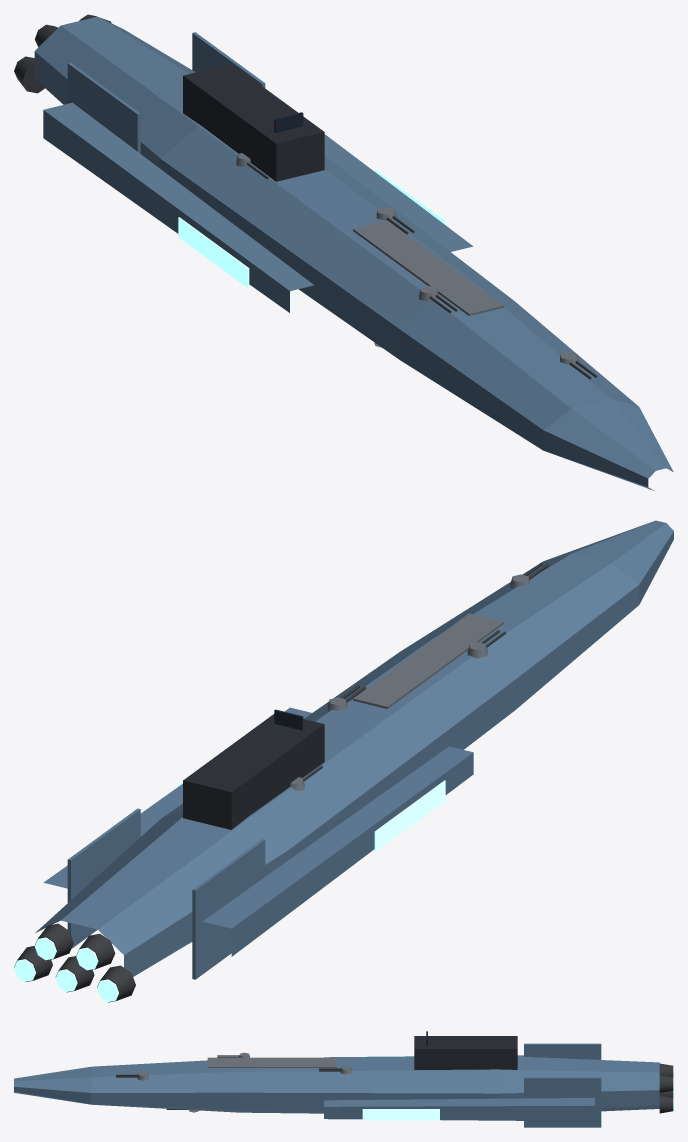
Rendered from space_ship_cruiser_mk5.glb.
3 renders of one model, top to bottom at view 1: azimuth 30°, elevation 25°; view 2: azimuth 150°, elevation 25°; view 3: azimuth 270°, elevation 25°, orthographic. The views are drawn at different scales.
Parts seen in each view (by area): view 1: body, hangar_r; view 2: body, hangar_r, engine_1, engine_3, engine_0, engine_2, engine_4; view 3: body, hangar_l, engine_4, engine_3, engine_1, turret_0, turret_4.
Boxes of the visible parts, x1=… form: body: x1=34, y1=16, x2=673, y2=490; hangar_r: x1=178, y1=217, x2=249, y2=288; body: x1=35, y1=520, x2=673, y2=979; hangar_r: x1=374, y1=780, x2=445, y2=851; engine_1: x1=76, y1=933, x2=115, y2=970; engine_3: x1=35, y1=923, x2=73, y2=960; engine_0: x1=97, y1=965, x2=135, y2=1002; engine_2: x1=55, y1=956, x2=94, y2=992; engine_4: x1=14, y1=946, x2=52, y2=982; body: x1=14, y1=1031, x2=659, y2=1127; hangar_l: x1=362, y1=1109, x2=439, y2=1120; engine_4: x1=659, y1=1095, x2=673, y2=1113; engine_3: x1=659, y1=1075, x2=673, y2=1092; engine_1: x1=659, y1=1063, x2=673, y2=1077; turret_0: x1=116, y1=1072, x2=148, y2=1080; turret_4: x1=319, y1=1065, x2=351, y2=1074.
Size of what is drawn, in the model's own units: 18.56 by 12.2 by 96.84.
